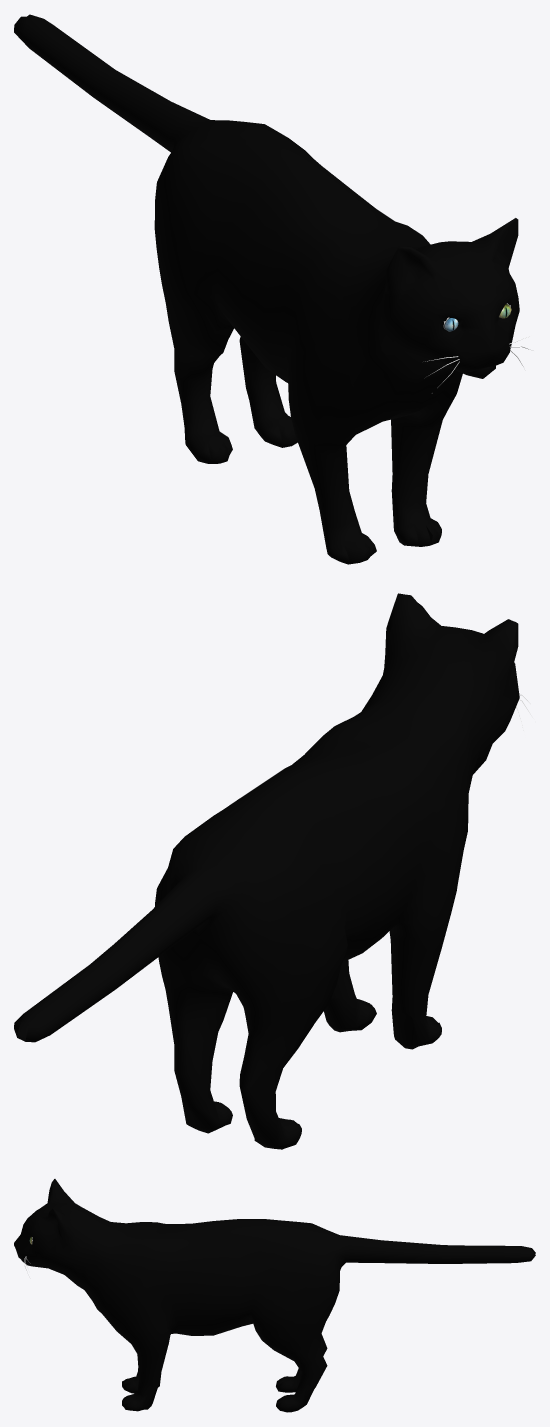
Rendered from cat_bone.obj.
The picture shows the model from 3 angles, top to bottom: view 1: azimuth 30°, elevation 25°; view 2: azimuth 150°, elevation 25°; view 3: azimuth 270°, elevation 25°; orthographic projection. The views are drawn at different scales.
Parts seen in each view (by area): view 1: 円.000; view 2: 円.000; view 3: 円.000.
Boxes of the visible parts, x1=… form: 円.000: x1=14, y1=14, x2=532, y2=564; 円.000: x1=14, y1=593, x2=532, y2=1149; 円.000: x1=14, y1=1179, x2=535, y2=1412.
Size of the model in its own units: 0.1467 by 0.3337 by 0.7618.
Materials: 1 (1 with a texture image).
